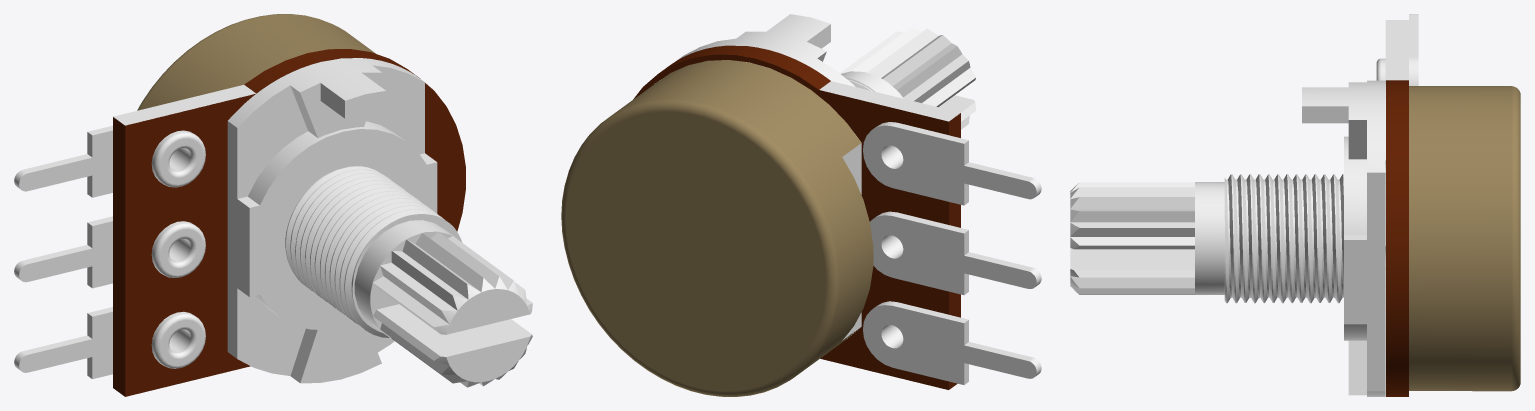
Rendered from Pot10k.glb.
The picture shows the model from 3 angles, left to right: view 1: azimuth 30°, elevation 25°; view 2: azimuth 150°, elevation 25°; view 3: azimuth 270°, elevation 25°; orthographic projection. The views are drawn at different scales.
Parts seen in each view (by area): view 1: POT10K; view 2: POT10K; view 3: POT10K.
Part boxes in pixels (x1,y1,x2,y2): POT10K: (14,14,532,396); POT10K: (561,14,1041,396); POT10K: (1070,14,1520,396).
Bounding box in the file's own units: 0.0255 × 0.017 × 0.0242.
